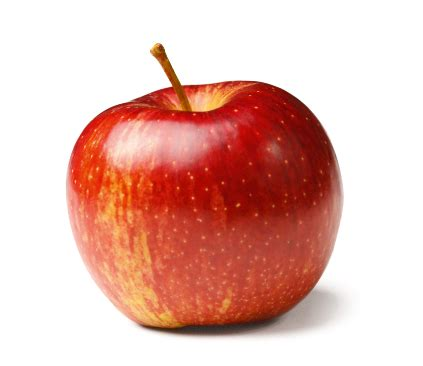apple: (62, 64, 347, 333)
